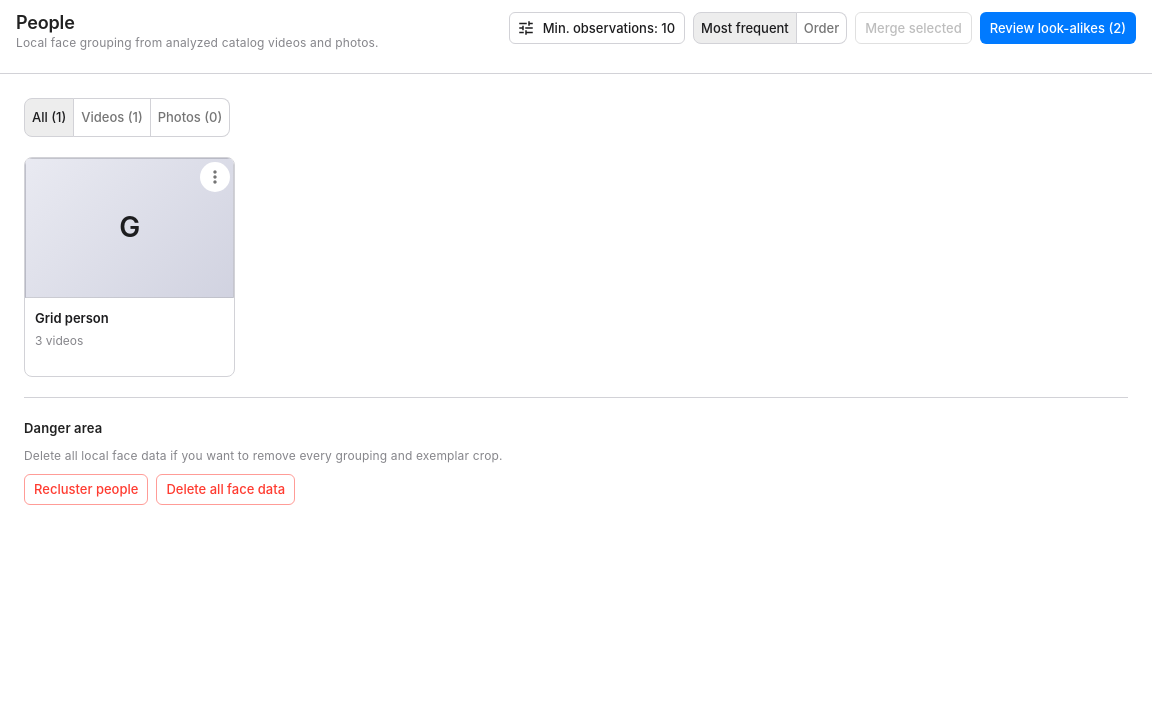
Osoby pair review card › resets the session counter when the surface is reopened
Click the button with test id "people-pair-review-open".
click(1058, 28)  # box [980,12,1136,44]
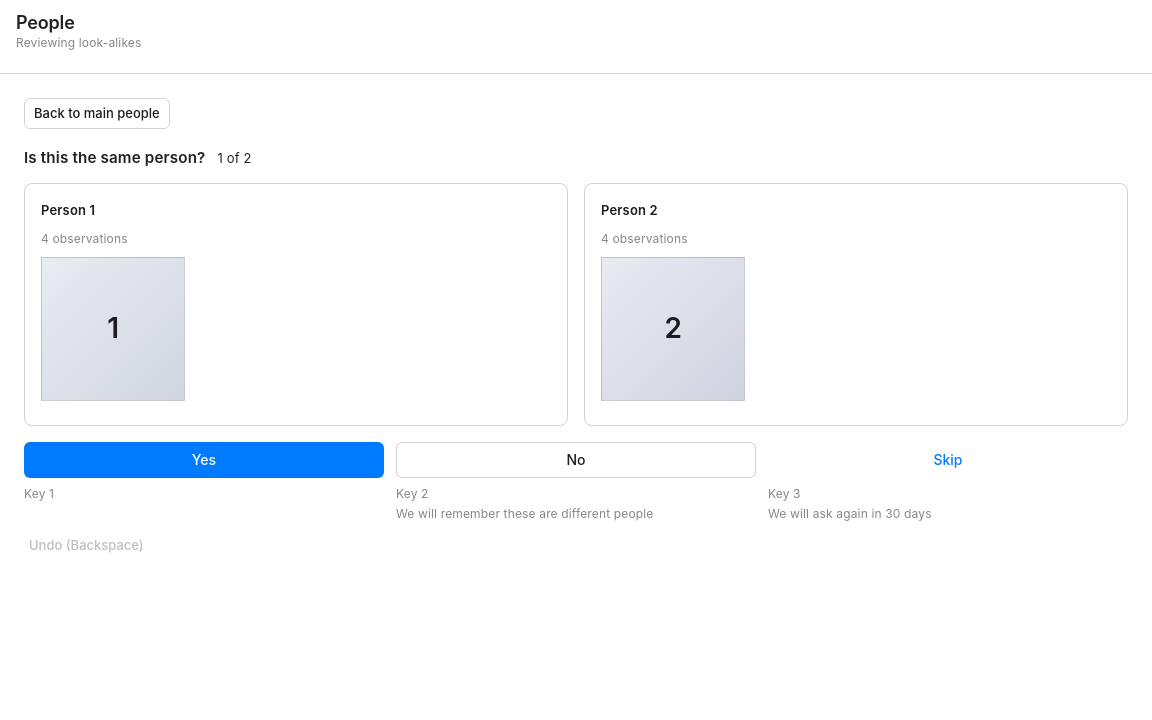
Now the element with test id "people-pair-review" is shown, box [24,149,1128,561]
Click the button with test id "people-pair-review-different".
click(576, 460)  # box [396,442,756,478]
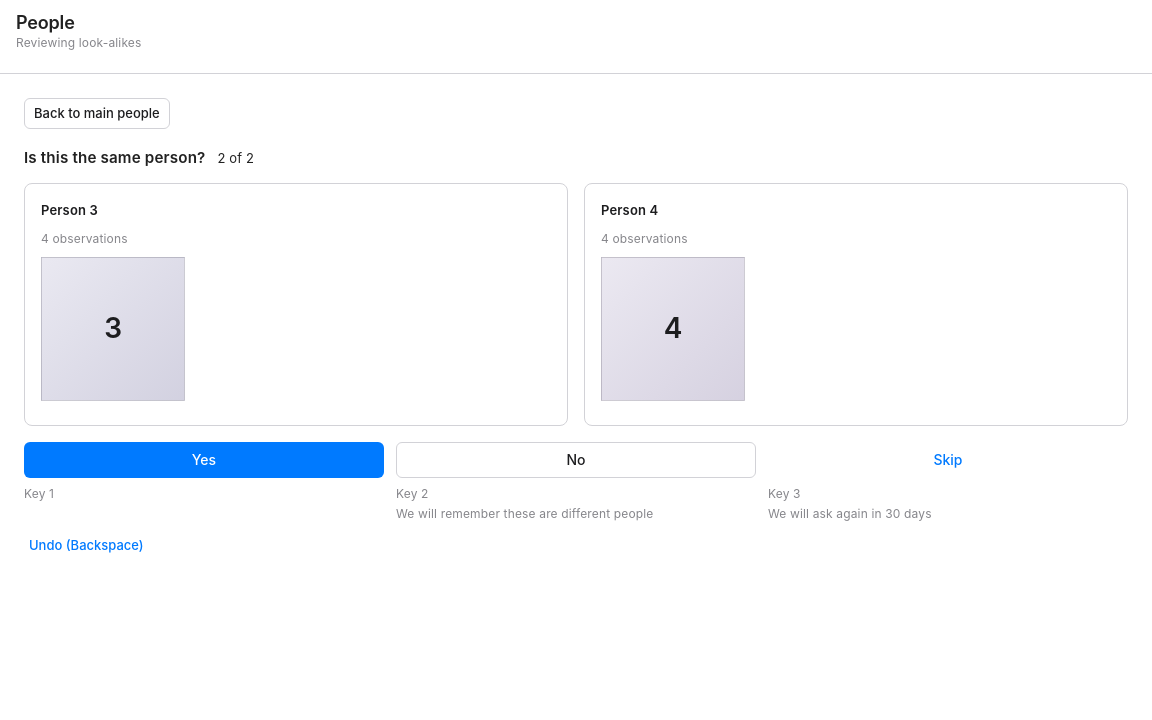
Now the message with test id "people-pair-review-position" reads "2 of 2", box [218,150,254,166]
Click the button with test id "people-back-main".
click(97, 113)  # box [24,98,170,129]
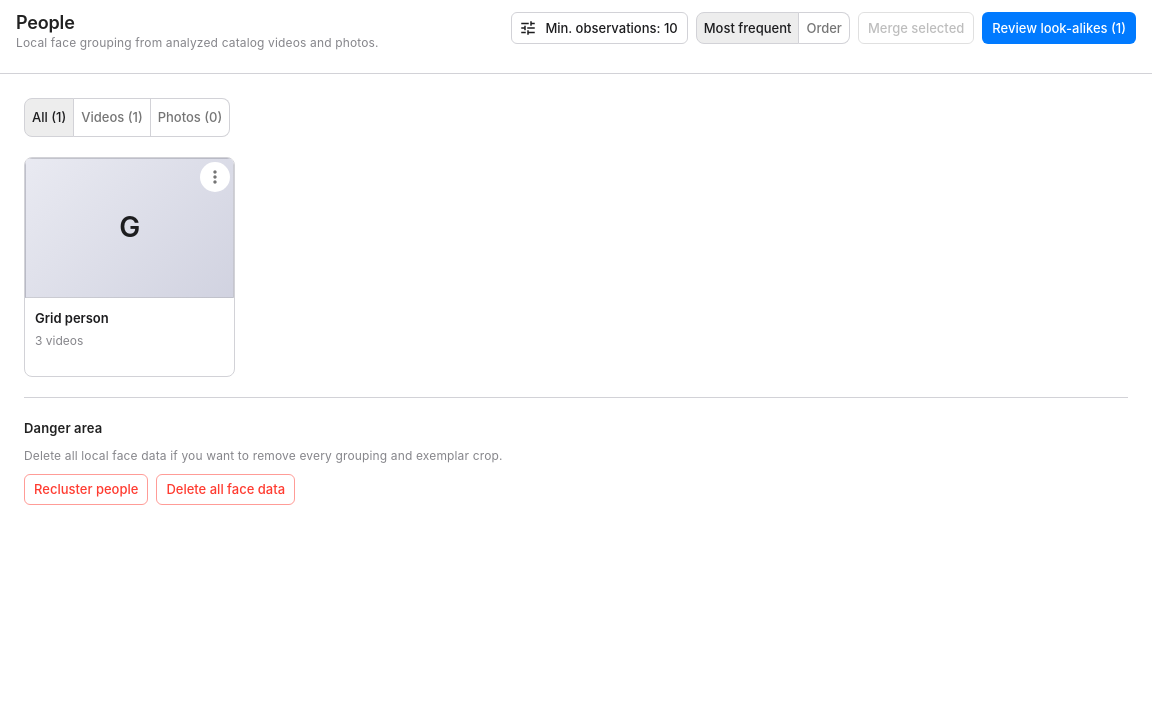
Now the element with test id "people-grid" is shown, box [24,157,235,377]
Click the button with test id "people-pair-review-open".
click(1059, 28)  # box [982,12,1136,44]
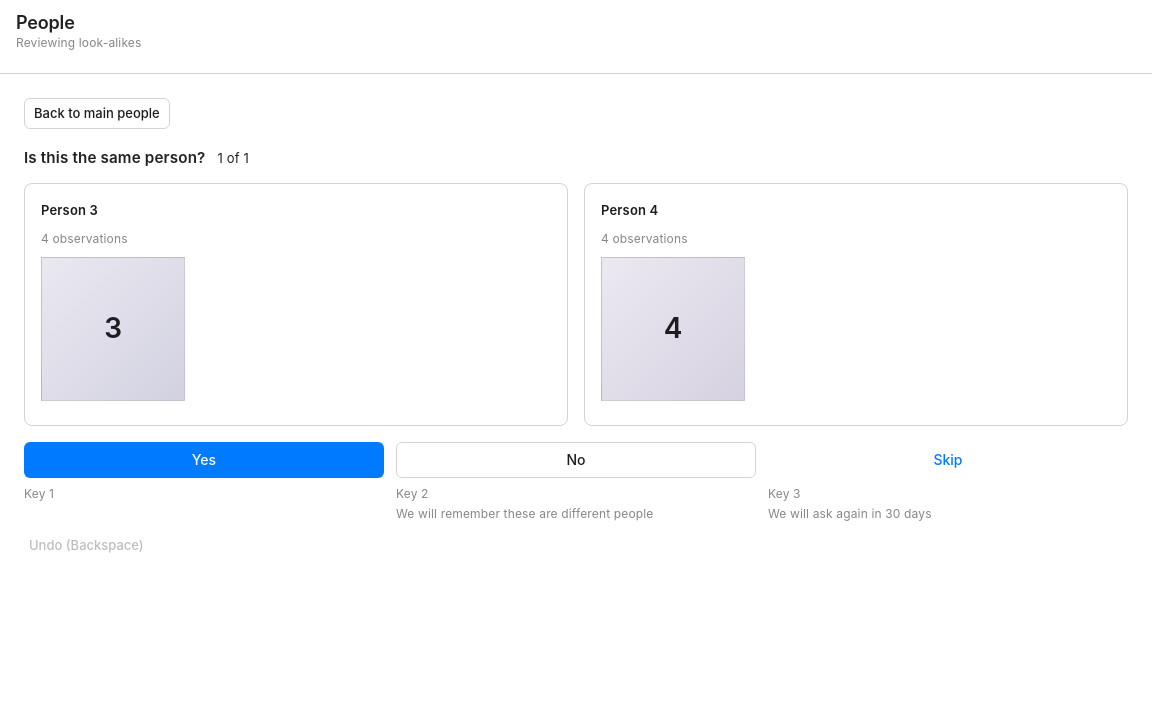
Now the element with test id "people-pair-review" is shown, box [24,149,1128,561]
Now the message with test id "people-pair-review-position" reads "1 of 1", box [218,150,249,166]
